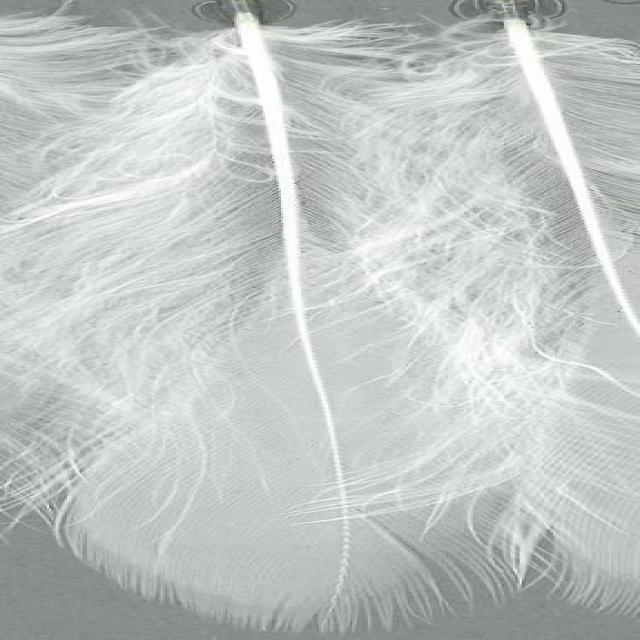feather: (0, 12, 640, 640), (352, 0, 640, 613)
